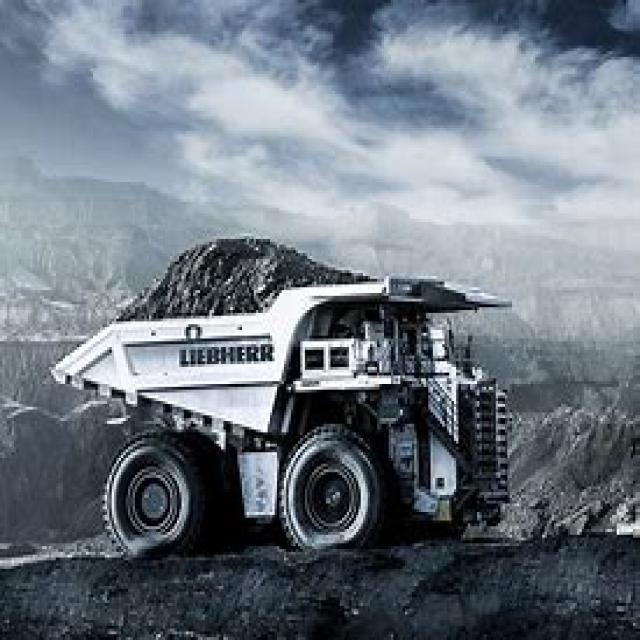dump_truck: (51, 216, 512, 566)
